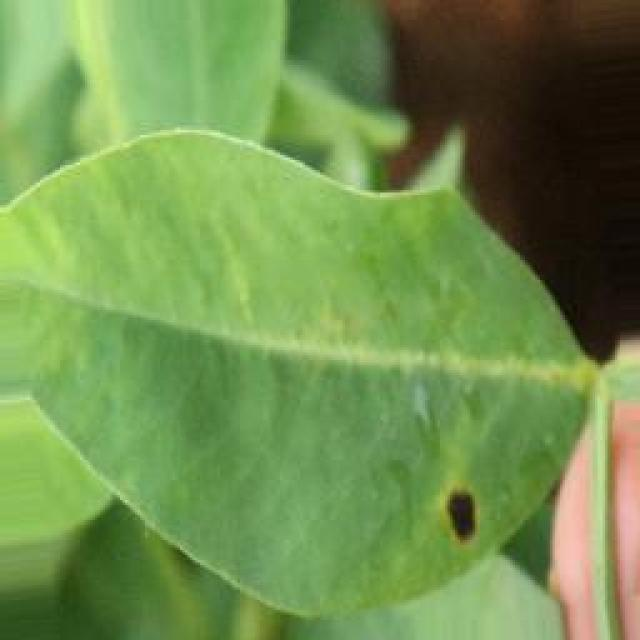Sigatoka: (401, 458, 481, 568)
